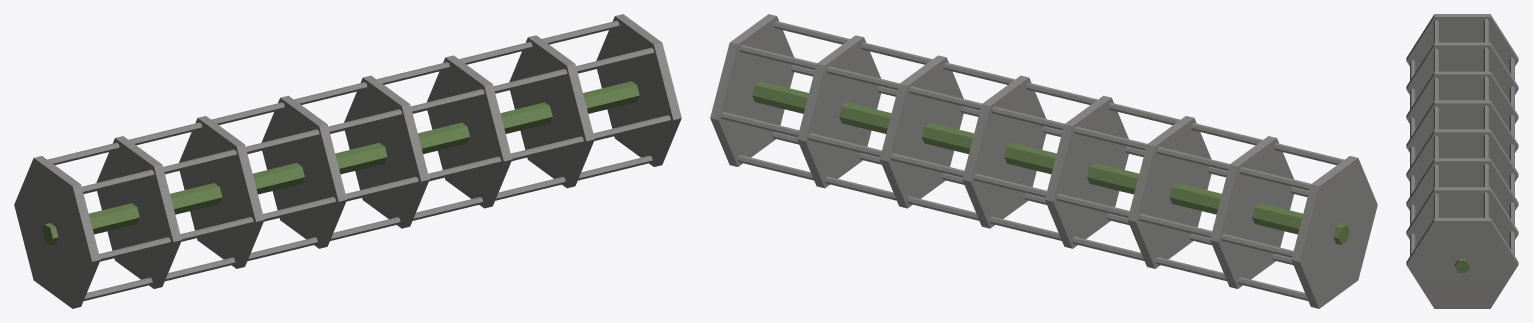
Rendered from HarvesterPart_04.fbx.
The picture shows the model from 3 angles, left to right: view 1: azimuth 30°, elevation 25°; view 2: azimuth 150°, elevation 25°; view 3: azimuth 270°, elevation 25°; orthographic projection. The views are drawn at different scales.
Parts seen in each view (by area): view 1: HarvesterPart_04; view 2: HarvesterPart_04; view 3: HarvesterPart_04.
Boxes of the visible parts, <box> form: HarvesterPart_04: <box>14,14,681,308</box>; HarvesterPart_04: <box>710,14,1377,308</box>; HarvesterPart_04: <box>1406,14,1518,308</box>.
Bounding box in the file's own units: 2.85 × 0.5558 × 0.6418.
